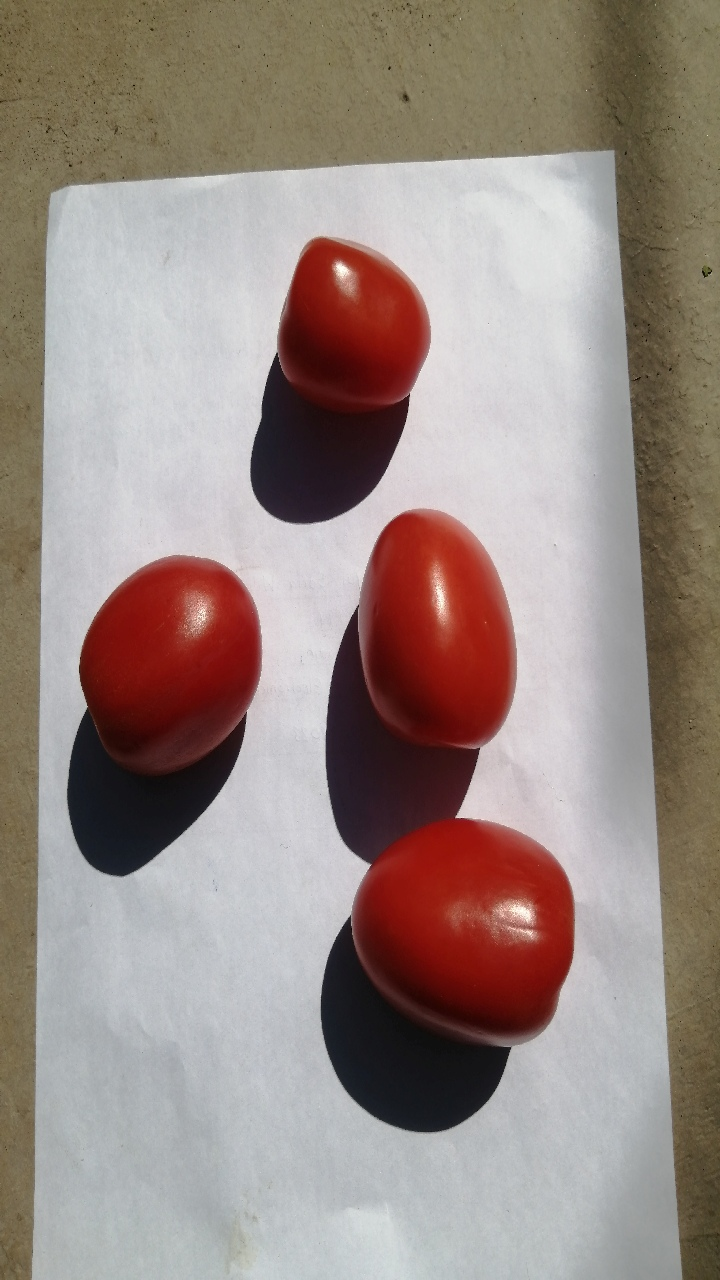tomateRojo: (328, 805, 589, 1059), (57, 526, 271, 775), (351, 500, 528, 760), (266, 220, 446, 440)
